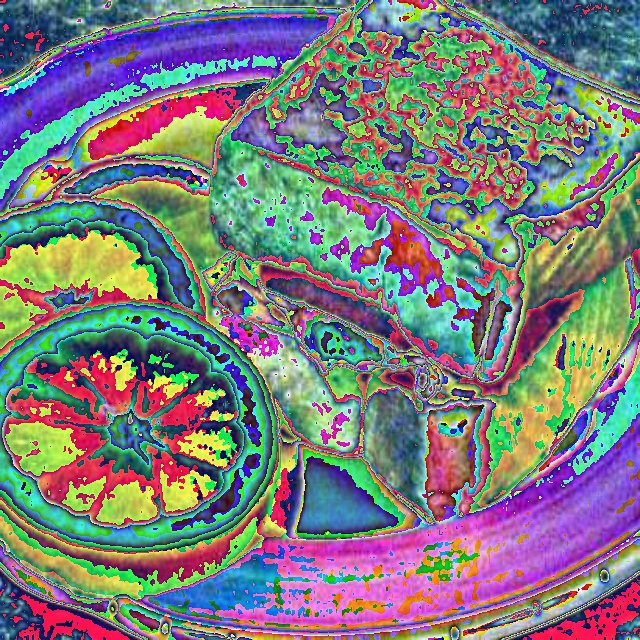background: (0, 0, 640, 599)
